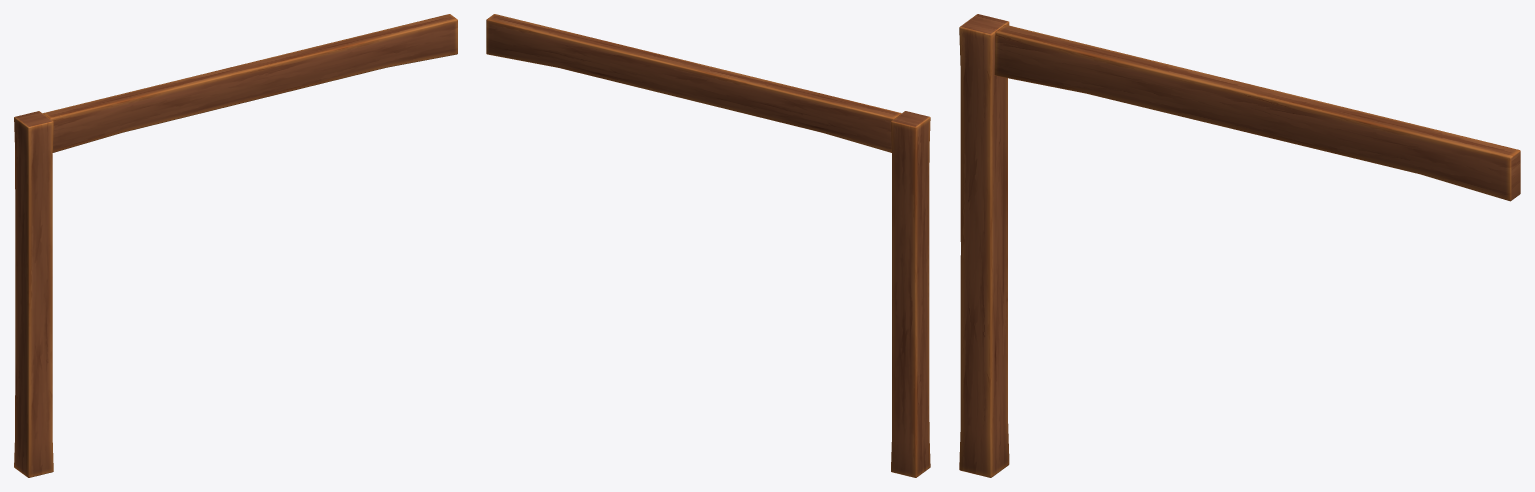
Rendered from PropWoodBeams01_2.FBX.
3 renders of one model, left to right at view 1: azimuth 30°, elevation 25°; view 2: azimuth 150°, elevation 25°; view 3: azimuth 330°, elevation 25°, orthographic. The views are drawn at different scales.
Visible parts, largest first — view 1: PropWoodBeams01_2; view 2: PropWoodBeams01_2; view 3: PropWoodBeams01_2.
Boxes of the visible parts, box(x1,y1,x2,y2) form: PropWoodBeams01_2: box(14, 14, 457, 477); PropWoodBeams01_2: box(486, 14, 930, 477); PropWoodBeams01_2: box(959, 14, 1520, 477).
Size of what is drawn, in the model's own units: 4.52 by 3.5 by 0.2683.
